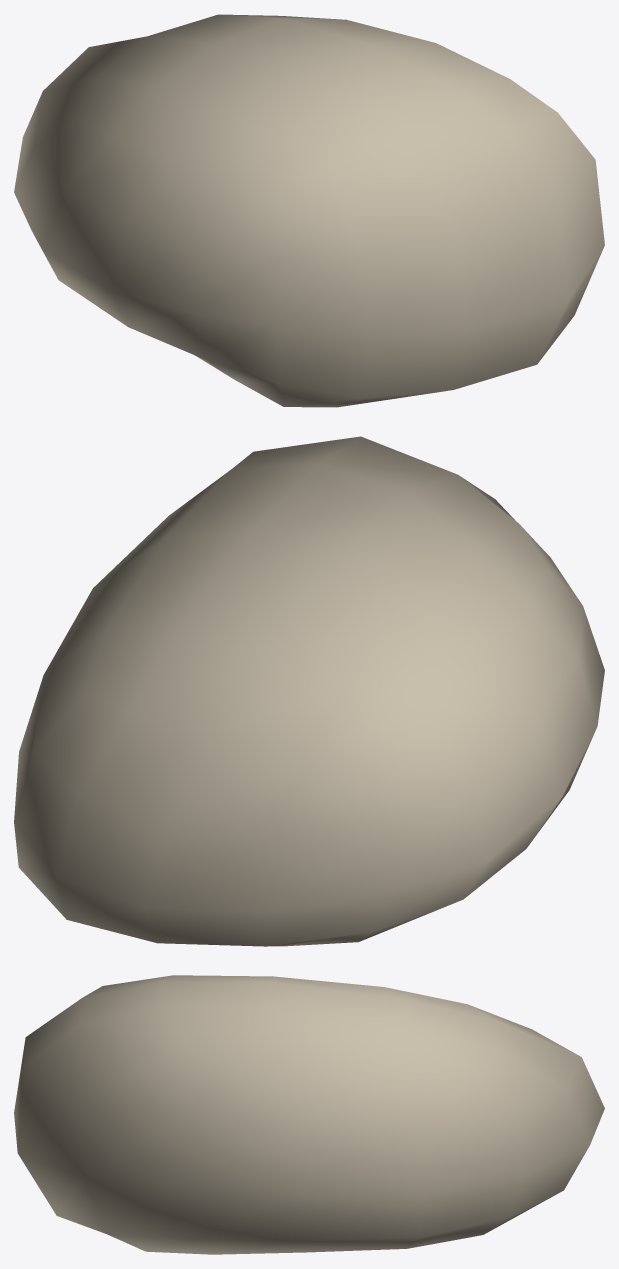
The model's file is itch_assetquest_pond_pebble_4c.glb.
The picture shows the model from 3 angles, top to bottom: view 1: azimuth 30°, elevation 25°; view 2: azimuth 150°, elevation 25°; view 3: azimuth 270°, elevation 25°; orthographic projection. The views are drawn at different scales.
Visible parts, largest first — view 1: Pebble_4c; view 2: Pebble_4c; view 3: Pebble_4c.
Boxes of the visible parts, x1,y1,x2,y2 form: Pebble_4c: (14,14,604,407); Pebble_4c: (14,436,604,946); Pebble_4c: (14,975,604,1254).
Size of the model in its own units: 0.2887 by 0.1883 by 0.42.
